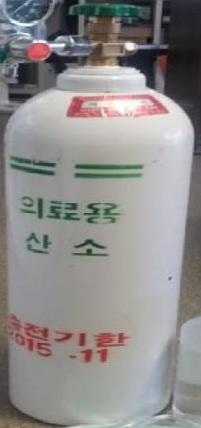cylinder: (1, 1, 201, 428)
